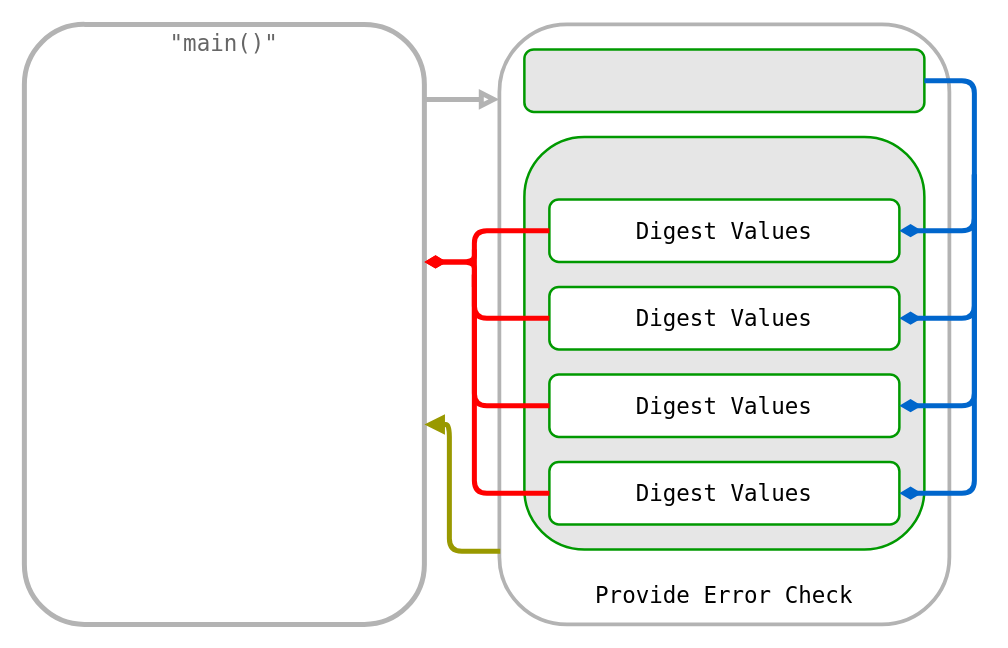
Some shapes in this 1008 by 648 pixel diagram are drawn without their labels. The shapes that lost their labels are listed below. From the top down, each one's box as (x1, y1, x2, y2) in pixels, then its label:
(522, 48, 925, 112): Produce Values To Operate On
(21, 21, 426, 626): Call Concurrency Handler Iterate Over Returned Data Report Potential Error
(522, 135, 925, 550): Create Consumers Of Values
